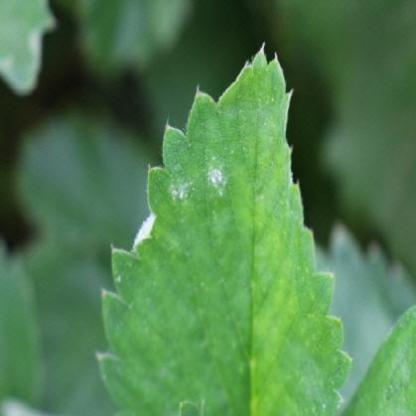Strawberry_Powdery_Mildew_Leaf: (94, 41, 354, 415)
